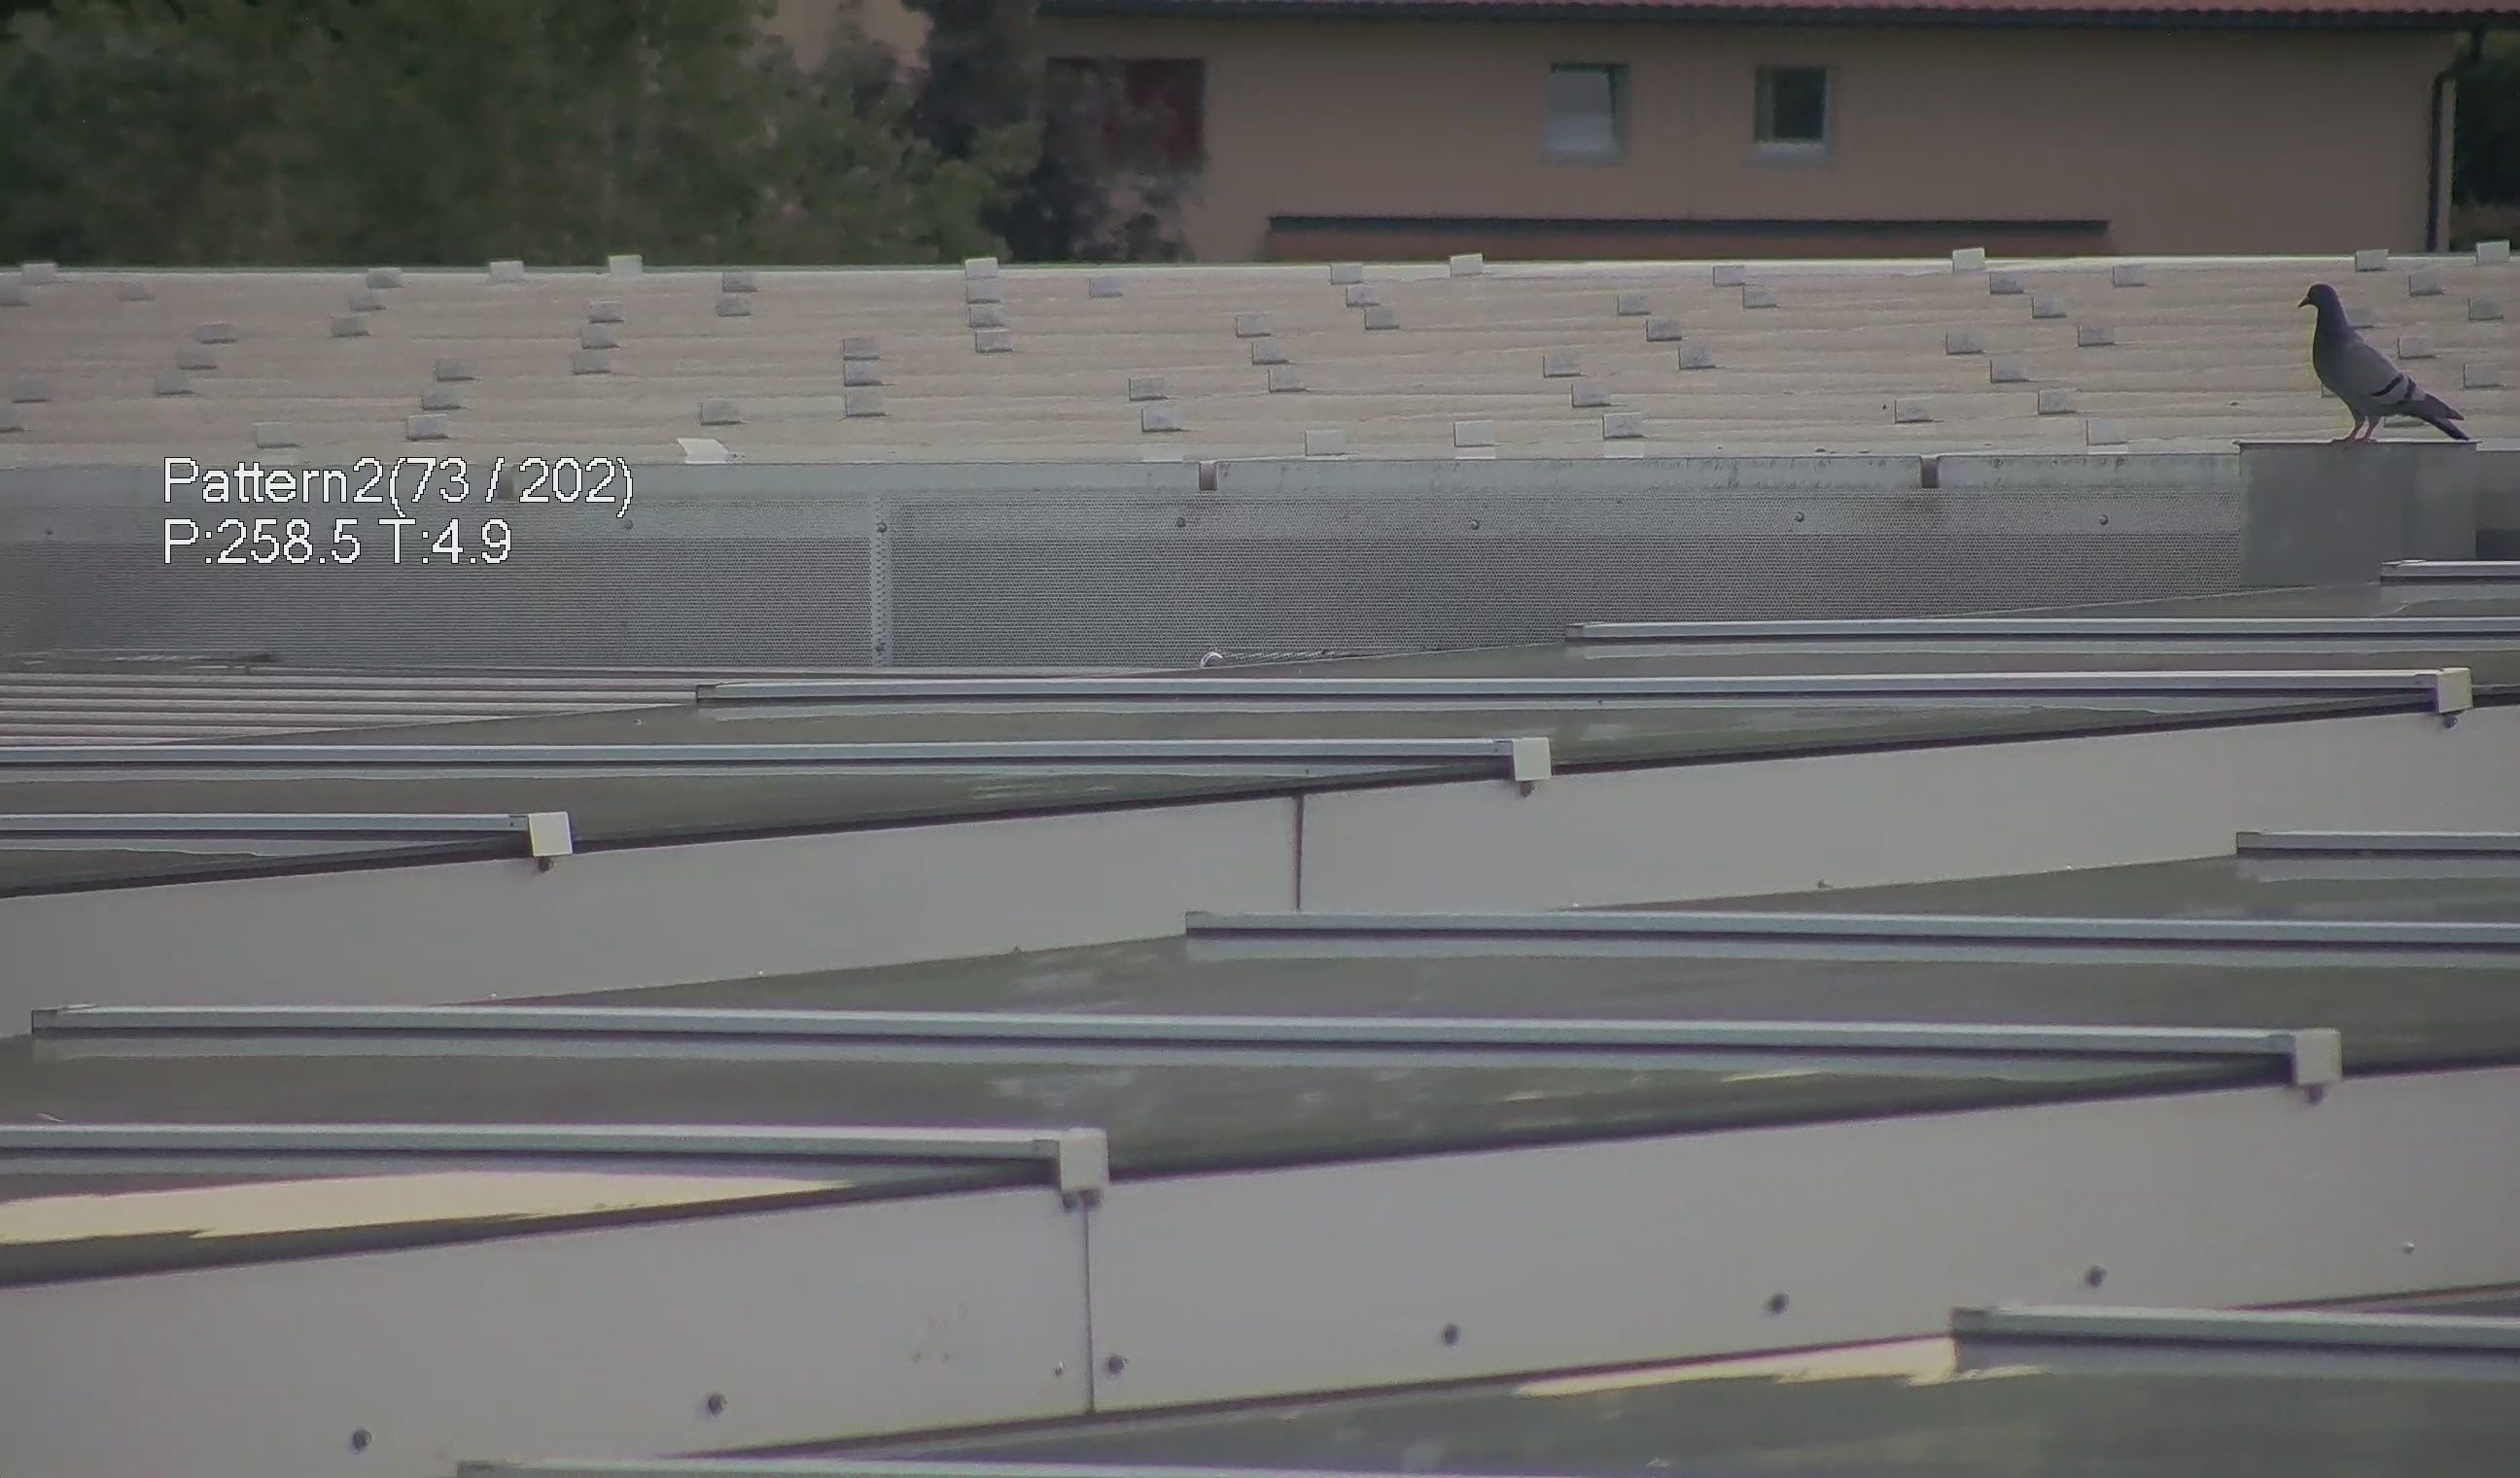Pigeon: (2291, 260, 2480, 452)
